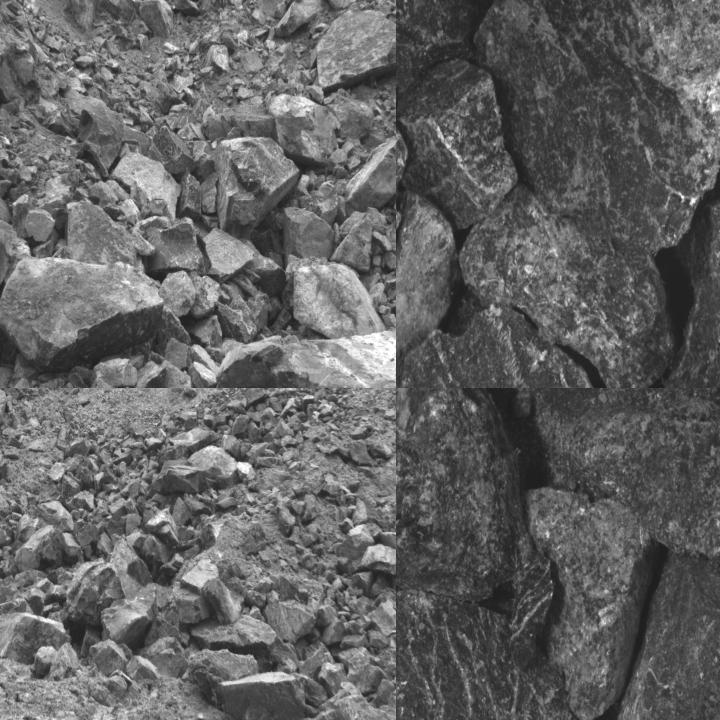stone: (474, 0, 719, 250), (460, 186, 674, 387), (528, 391, 719, 562), (522, 481, 651, 718), (396, 590, 610, 719), (396, 388, 521, 602), (396, 61, 514, 225), (607, 554, 719, 719), (396, 309, 599, 387), (396, 203, 456, 387), (396, 0, 496, 88), (190, 613, 299, 673), (508, 542, 552, 666), (268, 92, 340, 166), (110, 152, 181, 218), (66, 557, 126, 630), (188, 650, 258, 711), (156, 446, 241, 496), (219, 671, 305, 719), (0, 611, 71, 666), (78, 97, 124, 179), (145, 582, 189, 647), (157, 428, 221, 472), (263, 598, 316, 644), (13, 526, 66, 570), (150, 126, 195, 173), (337, 647, 381, 694), (297, 179, 339, 228), (137, 638, 186, 679), (0, 575, 37, 627), (204, 579, 245, 625), (40, 173, 72, 228), (10, 513, 51, 555), (351, 542, 395, 580), (216, 302, 257, 342), (28, 500, 75, 534), (87, 639, 129, 676), (337, 523, 380, 559), (298, 641, 336, 680), (329, 102, 371, 137), (143, 508, 179, 548), (180, 560, 219, 596), (44, 642, 80, 680), (139, 0, 174, 39), (92, 0, 145, 25), (332, 695, 386, 719), (368, 598, 395, 636), (56, 474, 81, 512), (46, 562, 82, 588), (31, 646, 58, 677), (319, 663, 346, 694), (247, 293, 268, 332), (163, 360, 193, 387), (166, 104, 198, 129), (74, 458, 97, 491), (74, 518, 100, 547), (276, 500, 296, 536), (318, 620, 344, 646), (348, 441, 374, 467), (373, 689, 395, 719), (34, 231, 59, 257), (172, 496, 192, 527), (164, 0, 205, 14), (118, 481, 146, 500), (300, 493, 317, 523), (316, 604, 338, 626), (220, 435, 240, 457), (108, 497, 126, 520), (0, 522, 15, 549), (97, 531, 112, 558), (237, 461, 256, 482), (231, 413, 249, 435), (46, 584, 66, 602), (126, 514, 143, 535), (107, 519, 125, 535), (390, 657, 395, 705), (0, 547, 5, 563)
